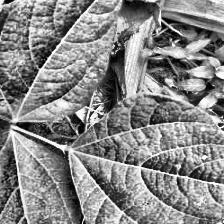Bean Rust: (65, 94, 224, 224), (0, 0, 131, 120), (0, 130, 84, 224)
